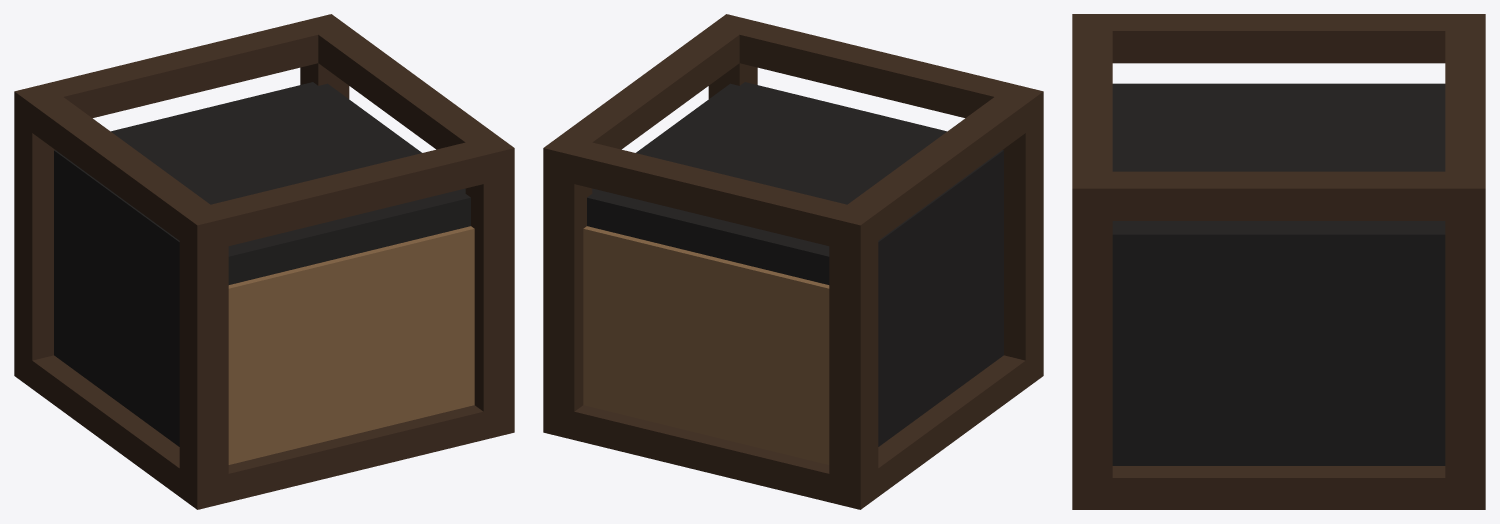
Rendered from SM_Wood_Crate_Open.glb.
3 renders of one model, left to right at view 1: azimuth 30°, elevation 25°; view 2: azimuth 150°, elevation 25°; view 3: azimuth 270°, elevation 25°, orthographic. The views are drawn at different scales.
Parts seen in each view (by area): view 1: SM_Wood_Crate_Open; view 2: SM_Wood_Crate_Open; view 3: SM_Wood_Crate_Open.
Part boxes in pixels (x1,y1,x2,y2): SM_Wood_Crate_Open: (14, 14, 514, 509); SM_Wood_Crate_Open: (543, 14, 1043, 509); SM_Wood_Crate_Open: (1072, 14, 1485, 509).
Bounding box in the file's own units: 0.35 × 0.3 × 0.35.
Materials: 1 (1 with a texture image).
